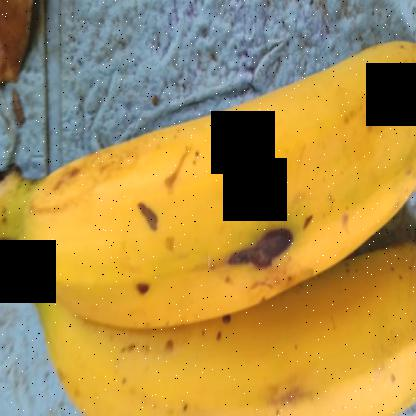ripe: (34, 2, 415, 343)
